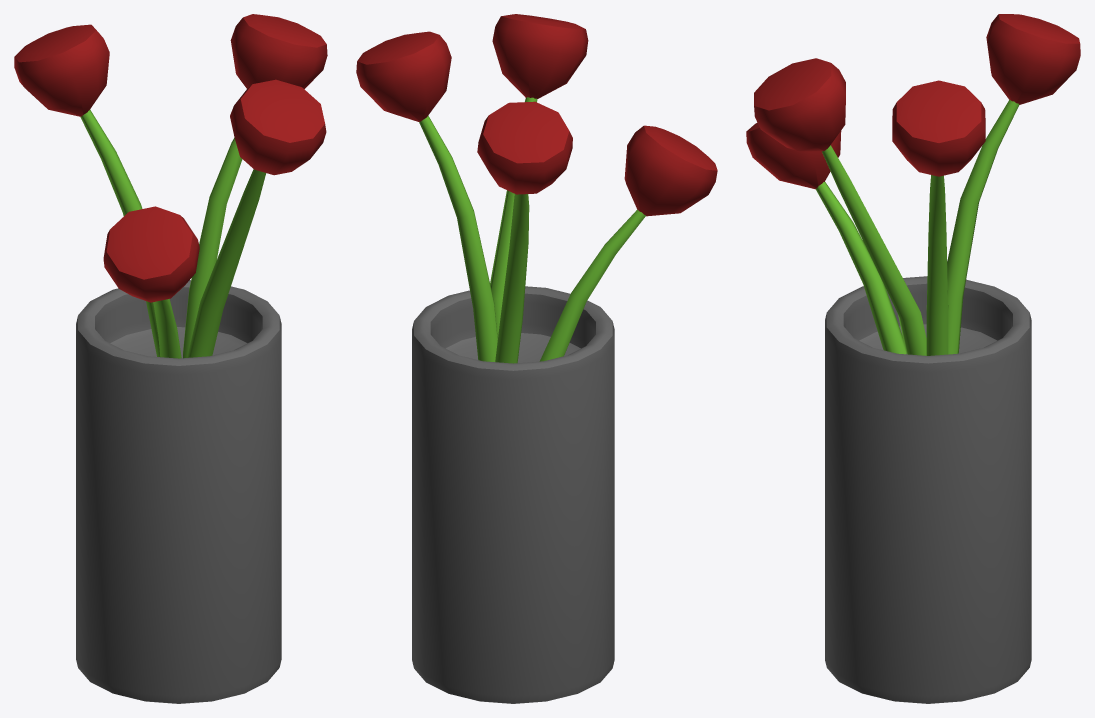
Rendered from SM_flower_room_03.fbx.
3 renders of one model, left to right at view 1: azimuth 30°, elevation 25°; view 2: azimuth 150°, elevation 25°; view 3: azimuth 270°, elevation 25°, orthographic. The views are drawn at different scales.
Parts seen in each view (by area): view 1: Object072; view 2: Object072; view 3: Object072.
Boxes of the visible parts, x1,y1,x2,y2 form: Object072: (14, 14, 327, 703); Object072: (356, 14, 717, 703); Object072: (746, 14, 1080, 703).
Size of the model in its own units: 14.34 by 29.97 by 14.67.
